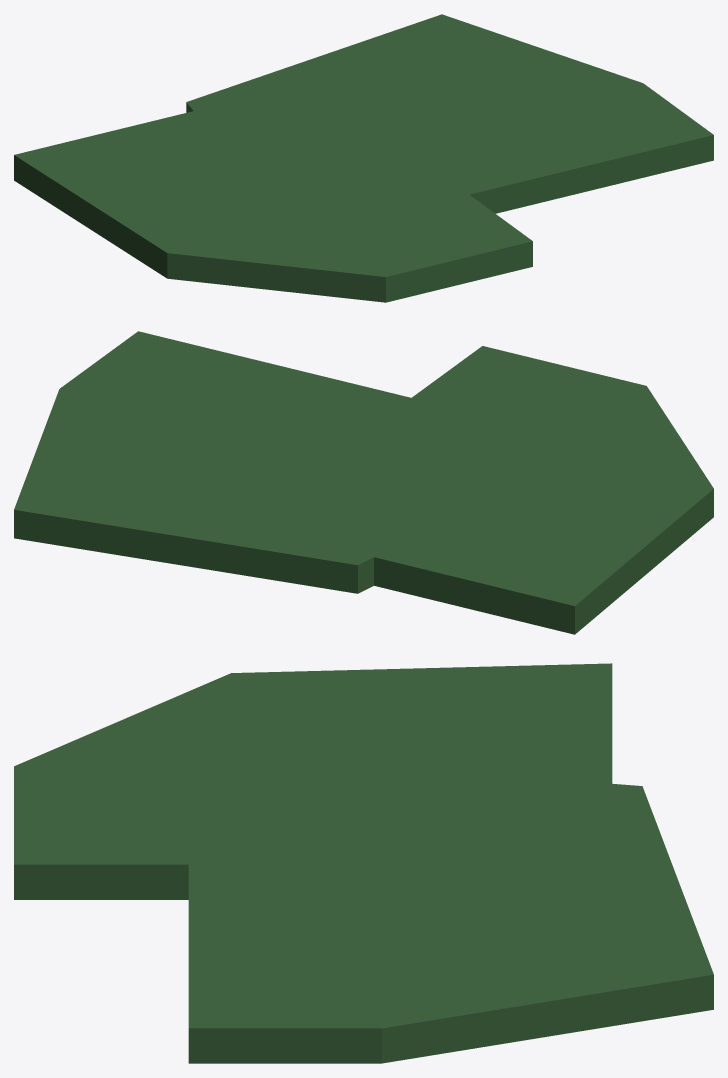
Rendered from x_proval_00_1_1_rmstrd.fbx.
The picture shows the model from 3 angles, top to bottom: view 1: azimuth 30°, elevation 25°; view 2: azimuth 150°, elevation 25°; view 3: azimuth 270°, elevation 25°; orthographic projection. The views are drawn at different scales.
Visible parts, largest first — view 1: x_proval_00_1_1_rmstrd1; view 2: x_proval_00_1_1_rmstrd1; view 3: x_proval_00_1_1_rmstrd1.
Boxes of the visible parts, box(x1,y1,x2,y2) form: x_proval_00_1_1_rmstrd1: box(14, 14, 713, 302); x_proval_00_1_1_rmstrd1: box(14, 331, 713, 634); x_proval_00_1_1_rmstrd1: box(14, 663, 713, 1063).
Size of the model in its own units: 4.46 by 0.2 by 3.61.
